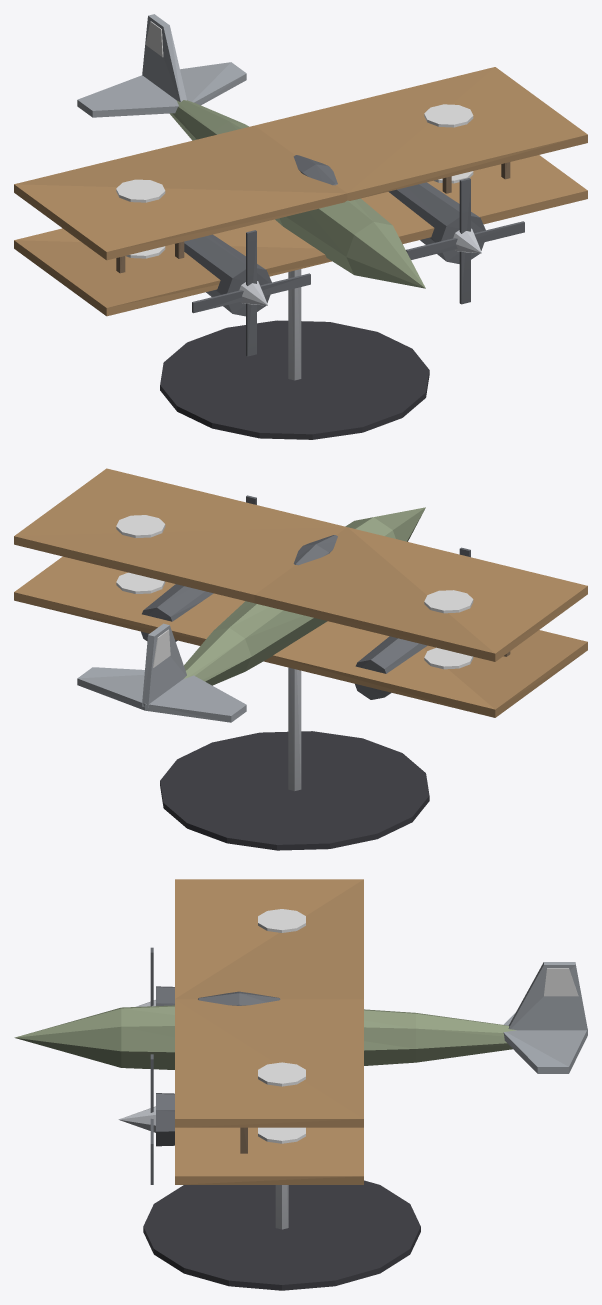
File: Great War Bomber.glb
3 views of the same model, one above another, from view 1: azimuth 30°, elevation 25°; view 2: azimuth 150°, elevation 25°; view 3: azimuth 270°, elevation 25° (orthographic). The views are drawn at different scales.
Parts seen in each view (by area): view 1: Body; view 2: Body; view 3: Body.
Boxes of the visible parts, bbox=[...] form: Body: bbox=[14, 14, 587, 439]; Body: bbox=[14, 468, 587, 850]; Body: bbox=[14, 879, 587, 1290].
Bounding box in the file's own units: 0.9 × 0.47 × 0.91.
